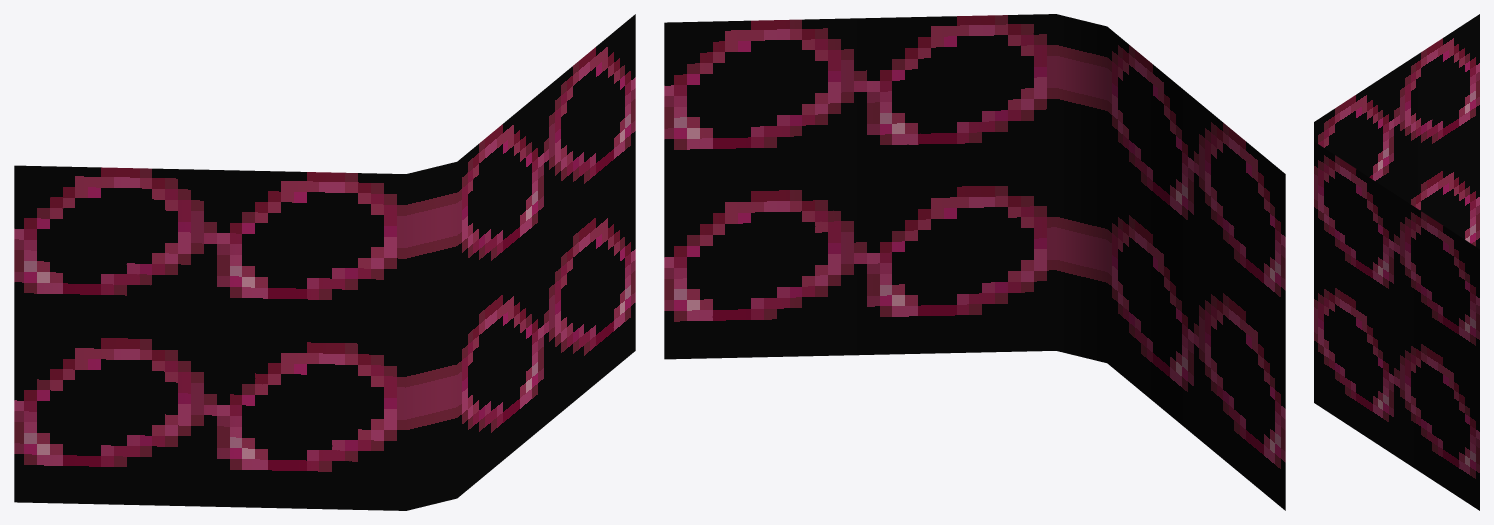
File: code_grass.gltf
The picture shows the model from 3 angles, left to right: view 1: azimuth 30°, elevation 25°; view 2: azimuth 150°, elevation 25°; view 3: azimuth 270°, elevation 25°; orthographic projection. The views are drawn at different scales.
Parts seen in each view (by area): view 1: code_grass; view 2: code_grass; view 3: code_grass.
Part boxes in pixels (<box>): code_grass: <box>14,14,635,510</box>; code_grass: <box>664,14,1285,510</box>; code_grass: <box>1314,14,1479,510</box>.
Bounding box in the file's own units: 0.457 × 0.2368 × 0.136.
1 material, 1 textured.
